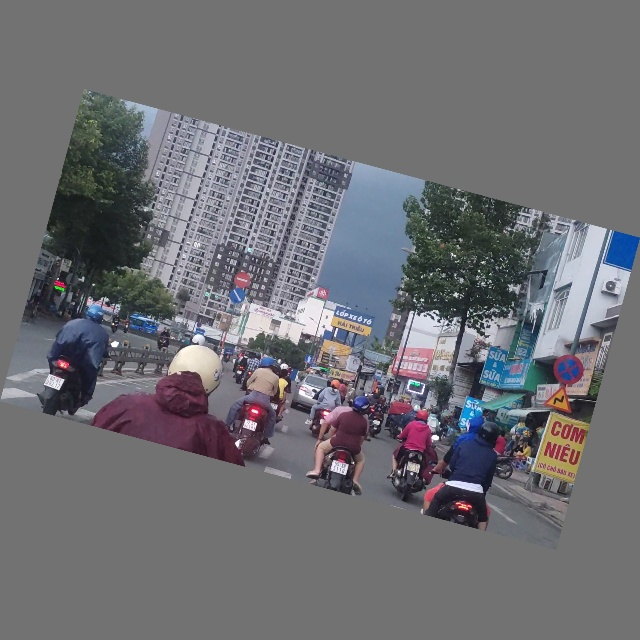I.407a: (304, 355, 315, 365)
I.434a: (374, 370, 384, 382)
P.102: (232, 271, 252, 290)
P.130: (550, 352, 589, 390)
R.302a: (227, 287, 249, 308)
W.202b: (542, 383, 578, 416)
